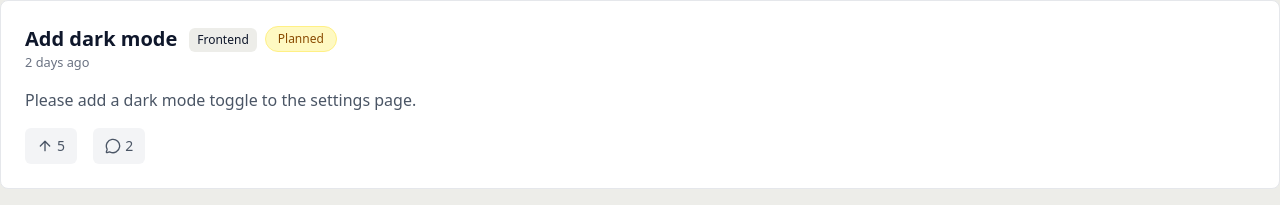
RoadmapItem › optimistically increments the upvote count on click and keeps it on success
Click the button "5" at (51, 146), box [25,128,77,164]
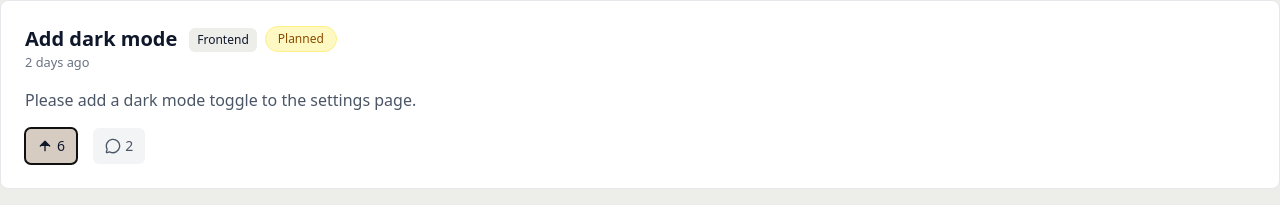
expect the text "6" is shown: met, box [57,136,65,156]
